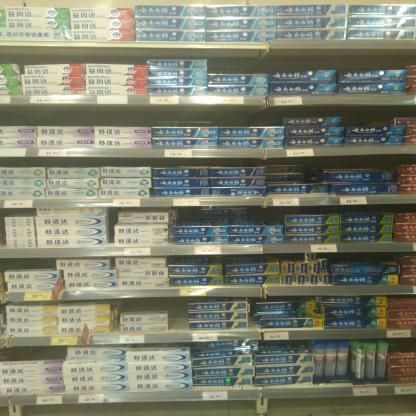Void: (0, 105, 281, 125), (265, 159, 325, 184), (328, 158, 396, 169), (345, 108, 389, 124), (332, 253, 395, 263), (284, 107, 339, 117), (212, 62, 262, 73), (248, 207, 279, 224), (170, 297, 187, 328), (9, 258, 53, 269), (2, 350, 61, 358), (125, 298, 166, 309), (390, 338, 416, 353), (177, 208, 193, 219)
